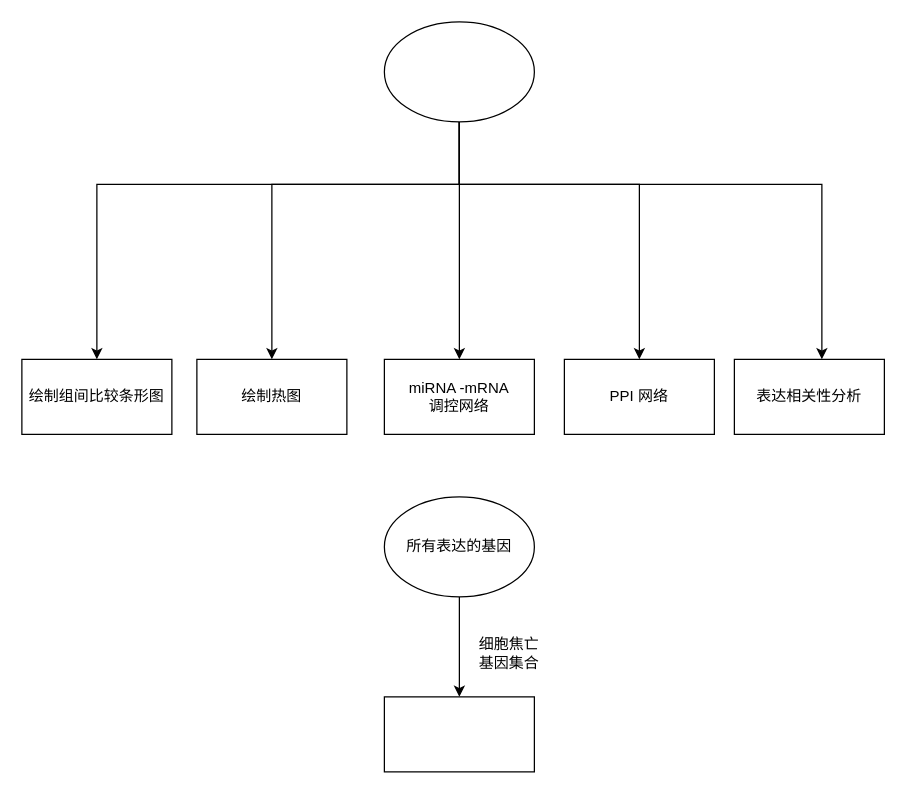
Image size: 906x794. Some labels were removed from this diagram. Each missing label, with the centre of its shape:
"GSEA分析" goes at [458,734].
"差异的细胞焦亡基因" goes at [458,71].
